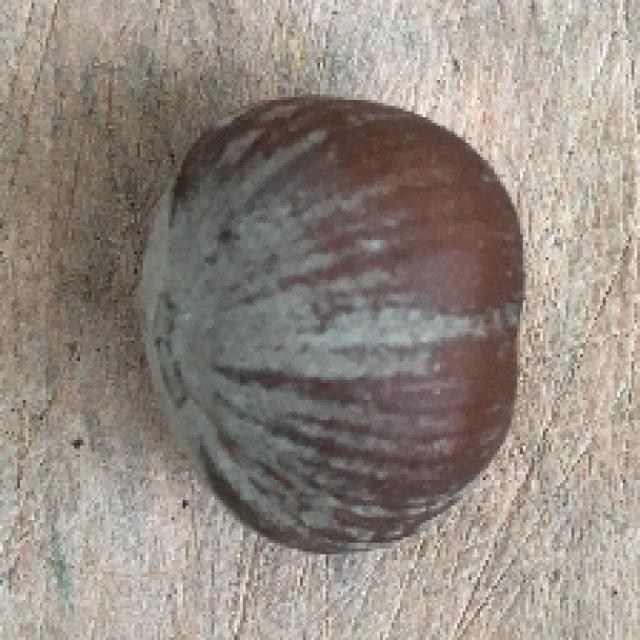qualityHazelnut: (139, 85, 538, 570)
